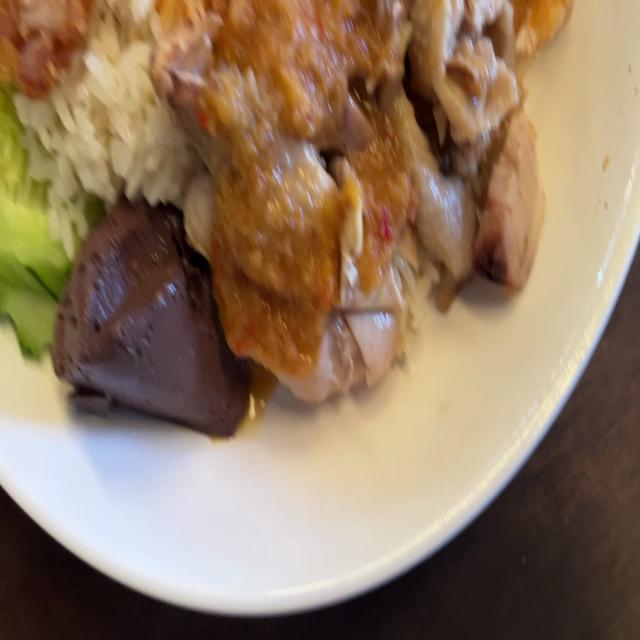chicken_rice: (216, 4, 510, 355)
noodle: (54, 199, 235, 432)
